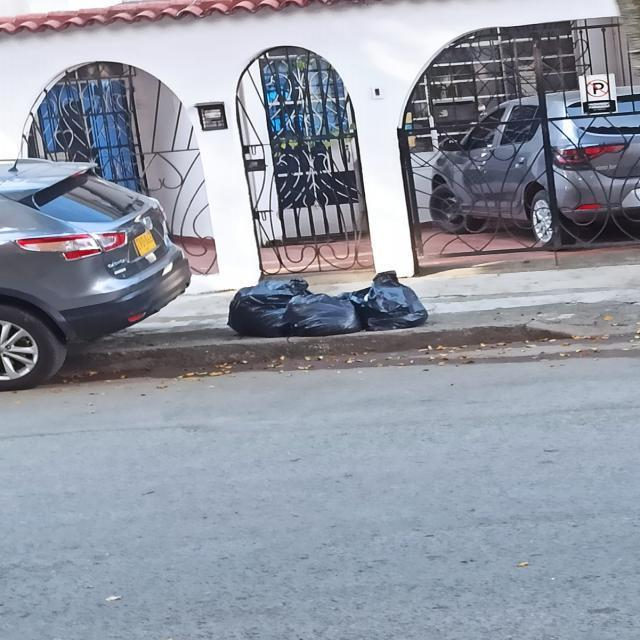Trashbag: (225, 275, 307, 339), (355, 274, 428, 334), (290, 292, 358, 339)
